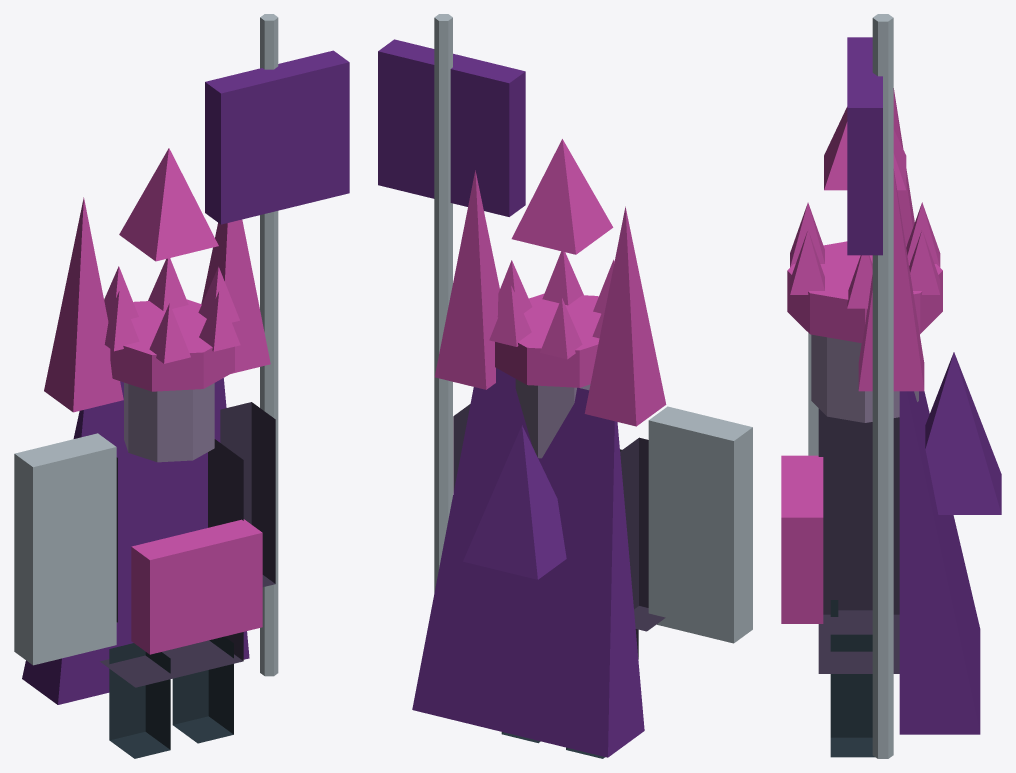
Rendered from hero.obj.
3 views of the same model, side by side, from view 1: azimuth 30°, elevation 25°; view 2: azimuth 150°, elevation 25°; view 3: azimuth 270°, elevation 25° (orthographic). The views are drawn at different scales.
Visible parts, largest first — view 1: hero; view 2: hero; view 3: hero.
Boxes of the visible parts, <box> form: hero: <box>14,14,349,758</box>; hero: <box>378,14,752,758</box>; hero: <box>781,14,1001,758</box>.
Size of the model in its own units: 1.32 by 2.59 by 0.6698.
